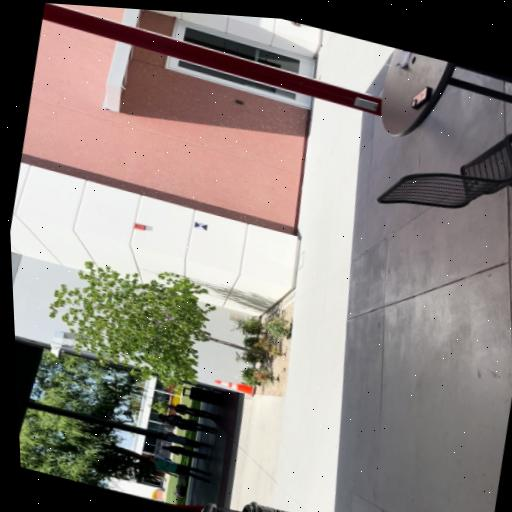target6: (194, 221, 208, 231)
